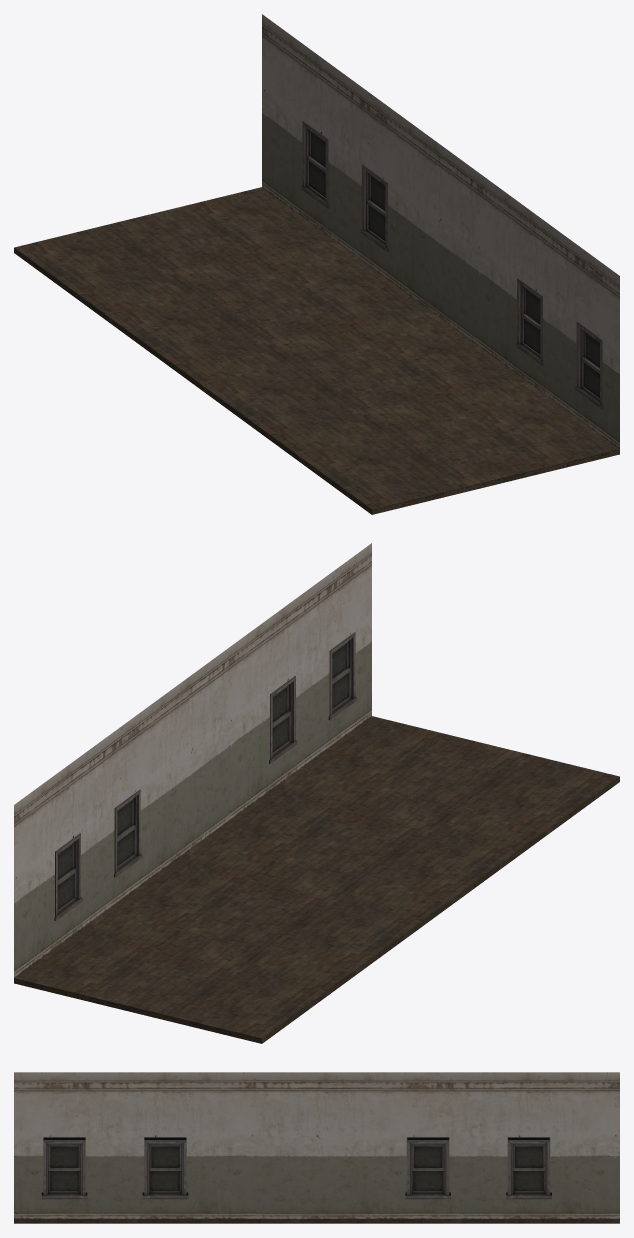
File: hallway_oneside_windows_left_15m.fbx
The picture shows the model from 3 angles, top to bottom: view 1: azimuth 30°, elevation 25°; view 2: azimuth 150°, elevation 25°; view 3: azimuth 270°, elevation 25°; orthographic projection. The views are drawn at different scales.
Parts seen in each view (by area): view 1: hallway_oneside_windows_left_15m; view 2: hallway_oneside_windows_left_15m; view 3: hallway_oneside_windows_left_15m.
Part boxes in pixels (box(x1,y1,x2,y2)): hallway_oneside_windows_left_15m: box(14, 14, 619, 514); hallway_oneside_windows_left_15m: box(14, 543, 619, 1043); hallway_oneside_windows_left_15m: box(14, 1072, 619, 1223).
Bounding box in the file's own units: 623 × 412 × 1500.
